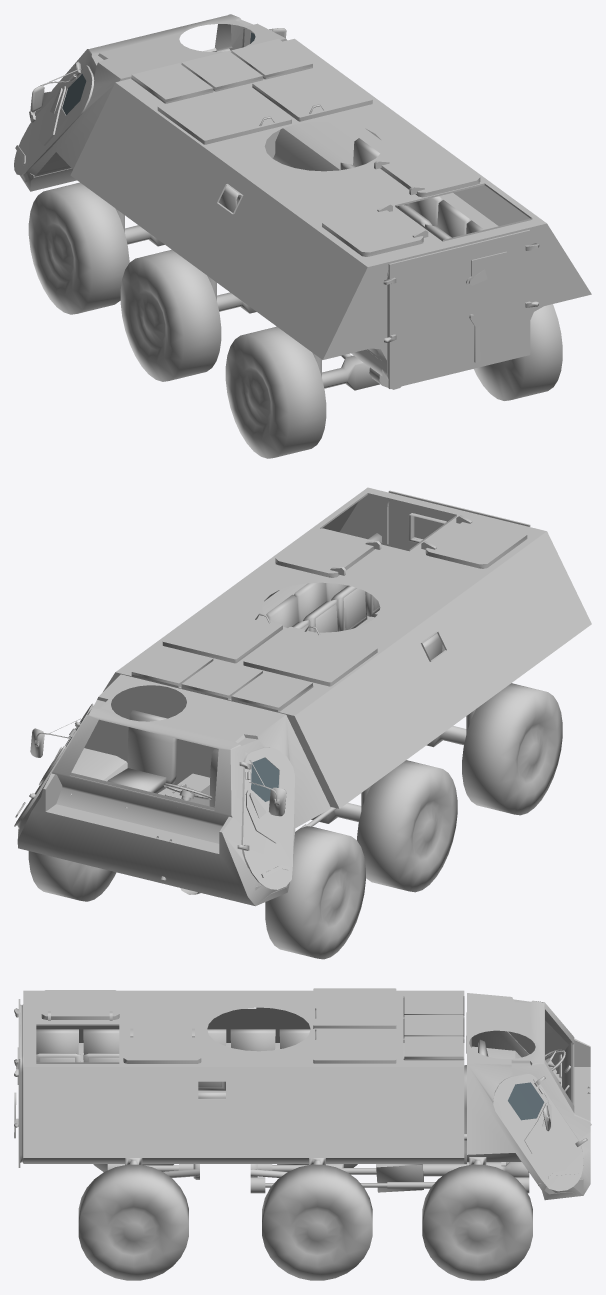
Rendered from VAB_lod2.FBX.
3 views of the same model, one above another, from view 1: azimuth 30°, elevation 25°; view 2: azimuth 150°, elevation 25°; view 3: azimuth 270°, elevation 25° (orthographic). The views are drawn at different scales.
Visible parts, largest first — view 1: Line048, VAB_WHEEL_L03, VAB_WHEEL_L02, VAB_WHEEL_L01, VAB_DOOR_LB, VAB_DOOR_RB, VAB_DOOR_TOP4, VAB_WHEEL_R03, VAB_DOOR_TOP5, Cylinder1102, VAB_DOOR_TOP7, VAB_DOOR_TOP6 (+4 smaller); view 2: Line048, VAB_WHEEL_L03, VAB_WHEEL_L02, VAB_WHEEL_L01, Cylinder1102, VAB_DOOR_TOP4, VAB_DOOR_TOP5, VAB_DOOR_TOP7, VAB_DOOR_TOP6, VAB_WHEEL_R01, VAB_DOOR_RB, VAB_DOOR_TOP1 (+5 smaller); view 3: Line048, VAB_WHEEL_R03, VAB_WHEEL_R02, VAB_WHEEL_R01, Cylinder1105, Cylinder1104, VAB_DOOR_TOP4, VAB_DOOR_TOP5, VAB_DOOR_TOP6, VAB_DOOR_TOP7, VAB_DOOR_TOP3, VAB_DOOR_TOP2 (+4 smaller).
Boxes of the visible parts, x1,y1,x2,y2 form: Line048: [19, 14, 591, 382]; VAB_WHEEL_L03: [225, 326, 326, 458]; VAB_WHEEL_L02: [120, 249, 221, 381]; VAB_WHEEL_L01: [28, 182, 129, 314]; VAB_DOOR_LB: [383, 247, 459, 388]; VAB_DOOR_RB: [459, 229, 539, 371]; VAB_DOOR_TOP4: [157, 85, 291, 144]; VAB_WHEEL_R03: [474, 304, 562, 400]; VAB_DOOR_TOP5: [252, 65, 372, 121]; Cylinder1102: [14, 61, 93, 175]; VAB_DOOR_TOP7: [322, 203, 428, 255]; VAB_DOOR_TOP6: [374, 148, 480, 195]; Line048: [16, 487, 591, 906]; VAB_WHEEL_L03: [462, 683, 562, 815]; VAB_WHEEL_L02: [357, 760, 457, 892]; VAB_WHEEL_L01: [265, 826, 365, 959]; Cylinder1102: [237, 747, 294, 889]; VAB_DOOR_TOP4: [243, 626, 377, 686]; VAB_DOOR_TOP5: [162, 607, 282, 661]; VAB_DOOR_TOP7: [421, 515, 527, 568]; VAB_DOOR_TOP6: [275, 528, 381, 577]; VAB_WHEEL_R01: [28, 851, 116, 901]; VAB_DOOR_RB: [388, 490, 459, 549]; VAB_DOOR_TOP1: [231, 671, 312, 710]; Line048: [20, 990, 591, 1200]; VAB_WHEEL_R03: [78, 1164, 188, 1280]; VAB_WHEEL_R02: [262, 1164, 372, 1280]; VAB_WHEEL_R01: [422, 1164, 532, 1280]; Cylinder1105: [493, 1073, 587, 1191]; Cylinder1104: [107, 1133, 529, 1193]; VAB_DOOR_TOP4: [313, 988, 396, 1028]; VAB_DOOR_TOP5: [313, 1028, 396, 1063]; VAB_DOOR_TOP6: [123, 1028, 201, 1063]; VAB_DOOR_TOP7: [41, 990, 119, 1020]; VAB_DOOR_TOP3: [404, 1036, 463, 1058]; VAB_DOOR_TOP2: [404, 1015, 463, 1036].
Size of what is drawn, in the model's own units: 13.09 by 10.21 by 26.34.
